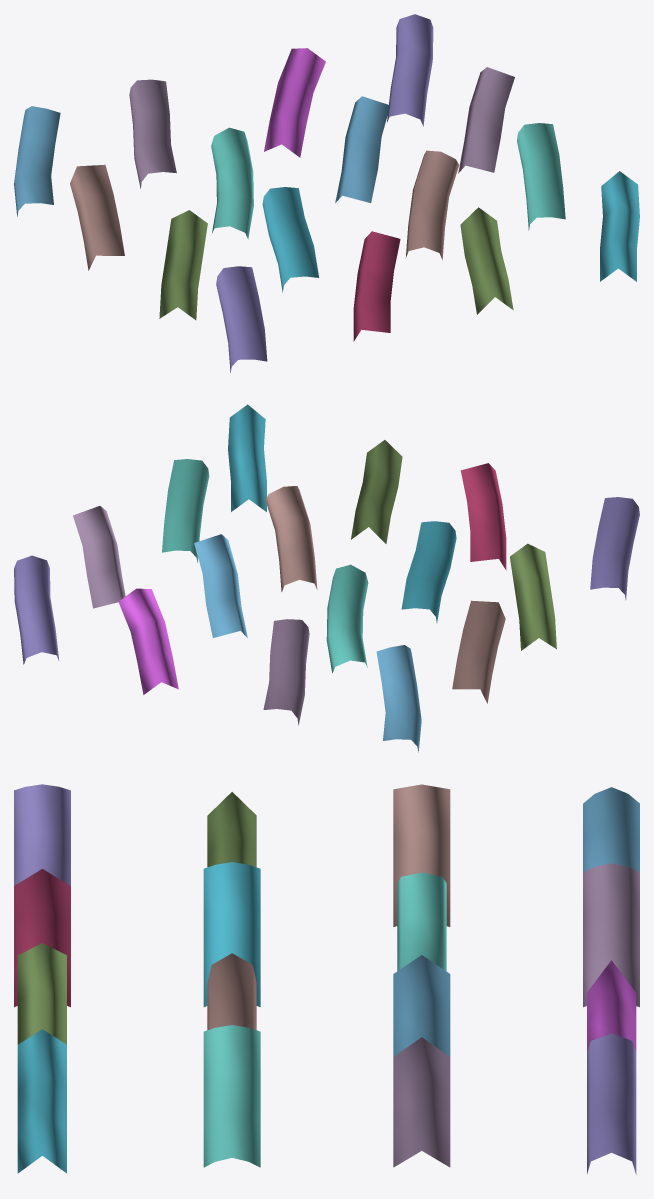
File: phong_txtrd_mats_2_PolyLineTest_2023-06-04-21-23-01.gltf
3 views of the same model, one above another, from view 1: azimuth 30°, elevation 25°; view 2: azimuth 150°, elevation 25°; view 3: azimuth 270°, elevation 25° (orthographic). The views are drawn at different scales.
Size of the model in its own units: 723 by 163 by 660.
